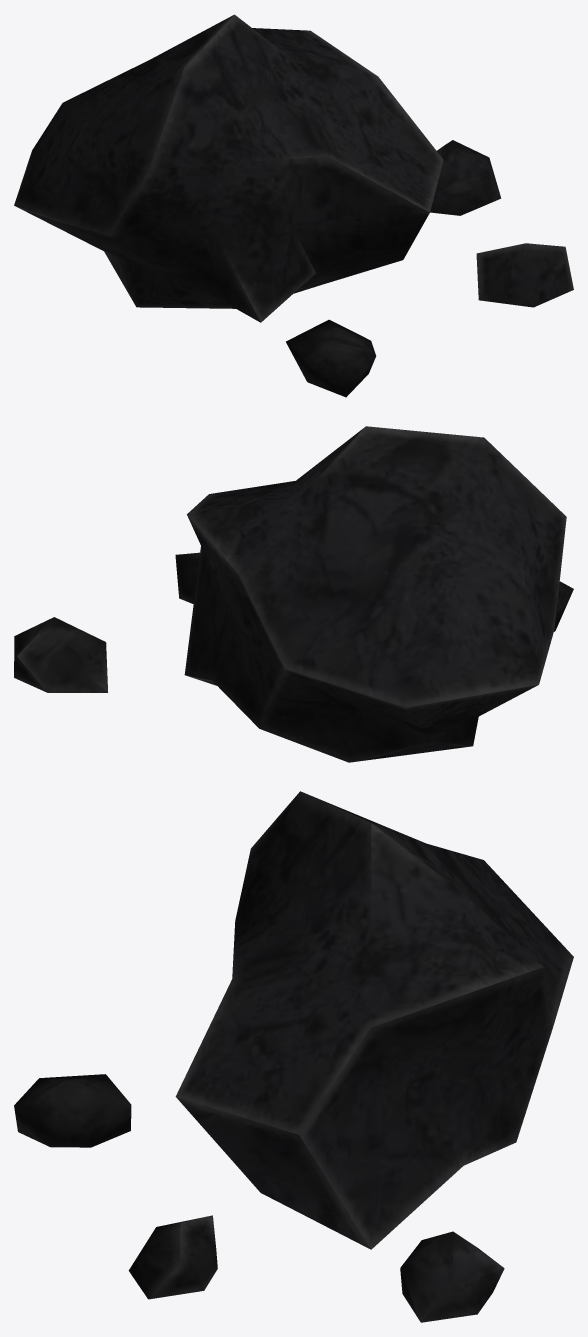
File: lava_rock_1.glb
The picture shows the model from 3 angles, top to bottom: view 1: azimuth 30°, elevation 25°; view 2: azimuth 150°, elevation 25°; view 3: azimuth 270°, elevation 25°; orthographic projection. The views are drawn at different scales.
Parts seen in each view (by area): view 1: te_prop_lava_rock_1; view 2: te_prop_lava_rock_1; view 3: te_prop_lava_rock_1.
Part boxes in pixels (left/top/right/bottom): te_prop_lava_rock_1: left=14, top=14, right=573, bottom=397; te_prop_lava_rock_1: left=14, top=426, right=573, bottom=762; te_prop_lava_rock_1: left=14, top=791, right=573, bottom=1322.
Bounding box in the file's own units: 0.2467 × 0.1327 × 0.2052.
Materials: 1 (1 with a texture image).
